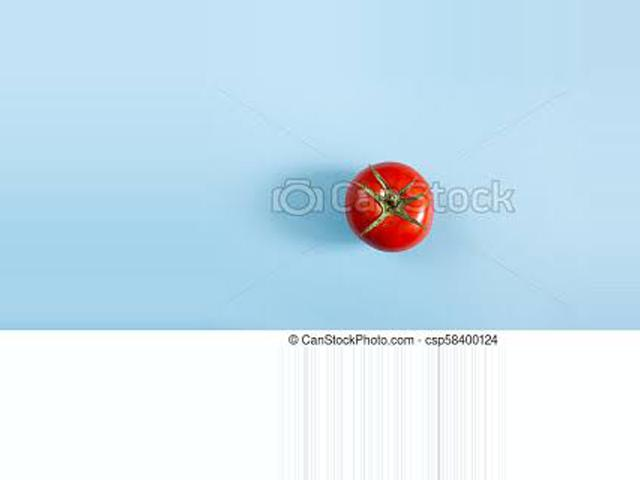tomato: (347, 162, 432, 254)
